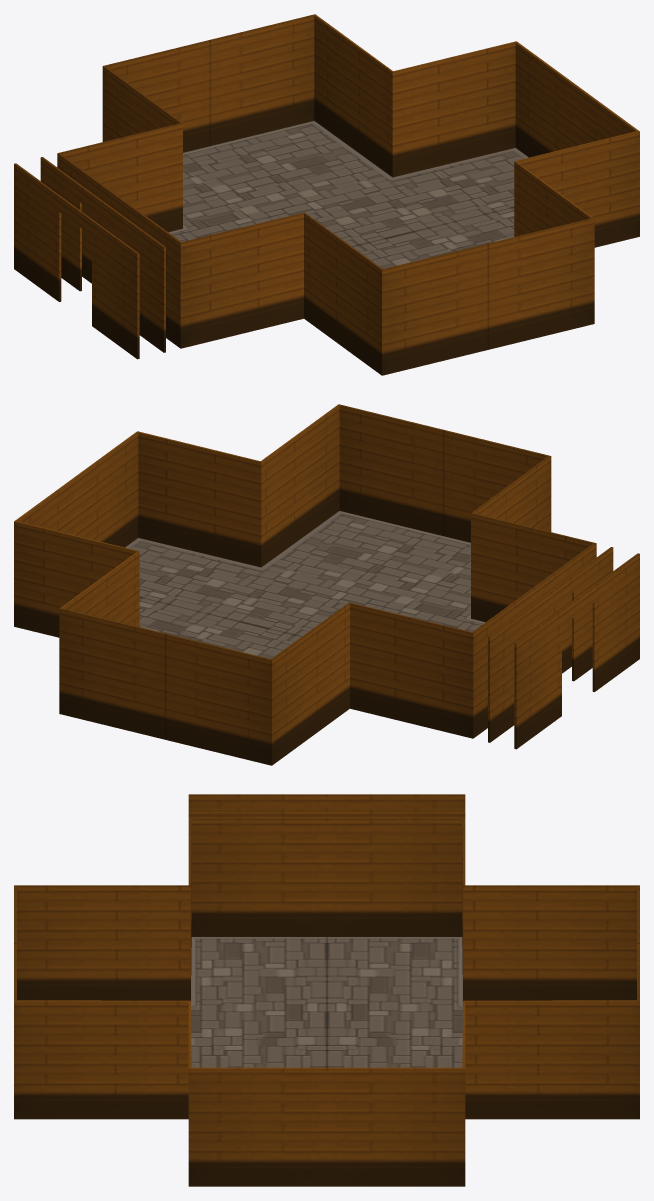
Rendered from Room_05.FBX.
3 renders of one model, top to bottom at view 1: azimuth 30°, elevation 25°; view 2: azimuth 150°, elevation 25°; view 3: azimuth 270°, elevation 25°, orthographic. The views are drawn at different scales.
Visible parts, largest first — view 1: Room5_Floor001, Room5_Wall014, Room5_Wall015, Room5_Wall011, Room5_Wall010, Room5_Wall013, Wall_Door_05_single001, Room5_Wall009, Room5_Wall012, Wall_Door_05_double001, Room5_Wall016; view 2: Room5_Floor001, Room5_Wall010, Room5_Wall009, Room5_Wall013, Room5_Wall014, Room5_Wall011, Wall_Door_05_single001, Room5_Wall015, Room5_Wall012, Wall_Door_05_double001, Room5_Wall016; view 3: Room5_Floor001, Room5_Wall012, Room5_Wall016, Room5_Wall011, Room5_Wall013, Room5_Wall009, Room5_Wall015, Wall_Door_05_single001, Wall_Door_05_double001, Room5_Wall010, Room5_Wall014.
Part boxes in pixels (bbox=[...]): Room5_Floor001: bbox=[169, 121, 528, 268]; Room5_Wall014: bbox=[380, 218, 594, 375]; Room5_Wall015: bbox=[179, 212, 384, 375]; Room5_Wall011: bbox=[314, 15, 517, 177]; Room5_Wall010: bbox=[103, 14, 315, 152]; Room5_Wall013: bbox=[514, 131, 639, 324]; Wall_Door_05_single001: bbox=[14, 163, 139, 359]; Room5_Wall009: bbox=[57, 65, 182, 232]; Room5_Wall012: bbox=[515, 41, 639, 236]; Wall_Door_05_double001: bbox=[40, 157, 165, 352]; Room5_Wall016: bbox=[57, 153, 182, 348]; Room5_Floor001: bbox=[125, 511, 484, 658]; Room5_Wall010: bbox=[59, 608, 273, 765]; Room5_Wall009: bbox=[269, 602, 474, 765]; Room5_Wall013: bbox=[138, 404, 339, 567]; Room5_Wall014: bbox=[338, 404, 551, 542]; Room5_Wall011: bbox=[14, 521, 139, 713]; Wall_Door_05_single001: bbox=[514, 553, 639, 749]; Room5_Wall015: bbox=[471, 456, 596, 622]; Room5_Wall012: bbox=[14, 431, 138, 624]; Wall_Door_05_double001: bbox=[488, 547, 613, 742]; Room5_Wall016: bbox=[471, 543, 595, 738]; Room5_Floor001: bbox=[191, 937, 463, 1067]; Room5_Wall012: bbox=[188, 1067, 465, 1186]; Room5_Wall016: bbox=[189, 818, 462, 936]; Room5_Wall011: bbox=[462, 1000, 639, 1186]; Room5_Wall013: bbox=[14, 1000, 191, 1184]; Room5_Wall009: bbox=[462, 818, 639, 1001]; Room5_Wall015: bbox=[14, 818, 191, 1001]; Wall_Door_05_single001: bbox=[188, 794, 465, 808]; Wall_Door_05_double001: bbox=[188, 808, 465, 817]; Room5_Wall010: bbox=[637, 886, 639, 1119]; Room5_Wall014: bbox=[14, 885, 16, 1119].
Bounding box in the file's own units: 457 × 91.46 × 440.
